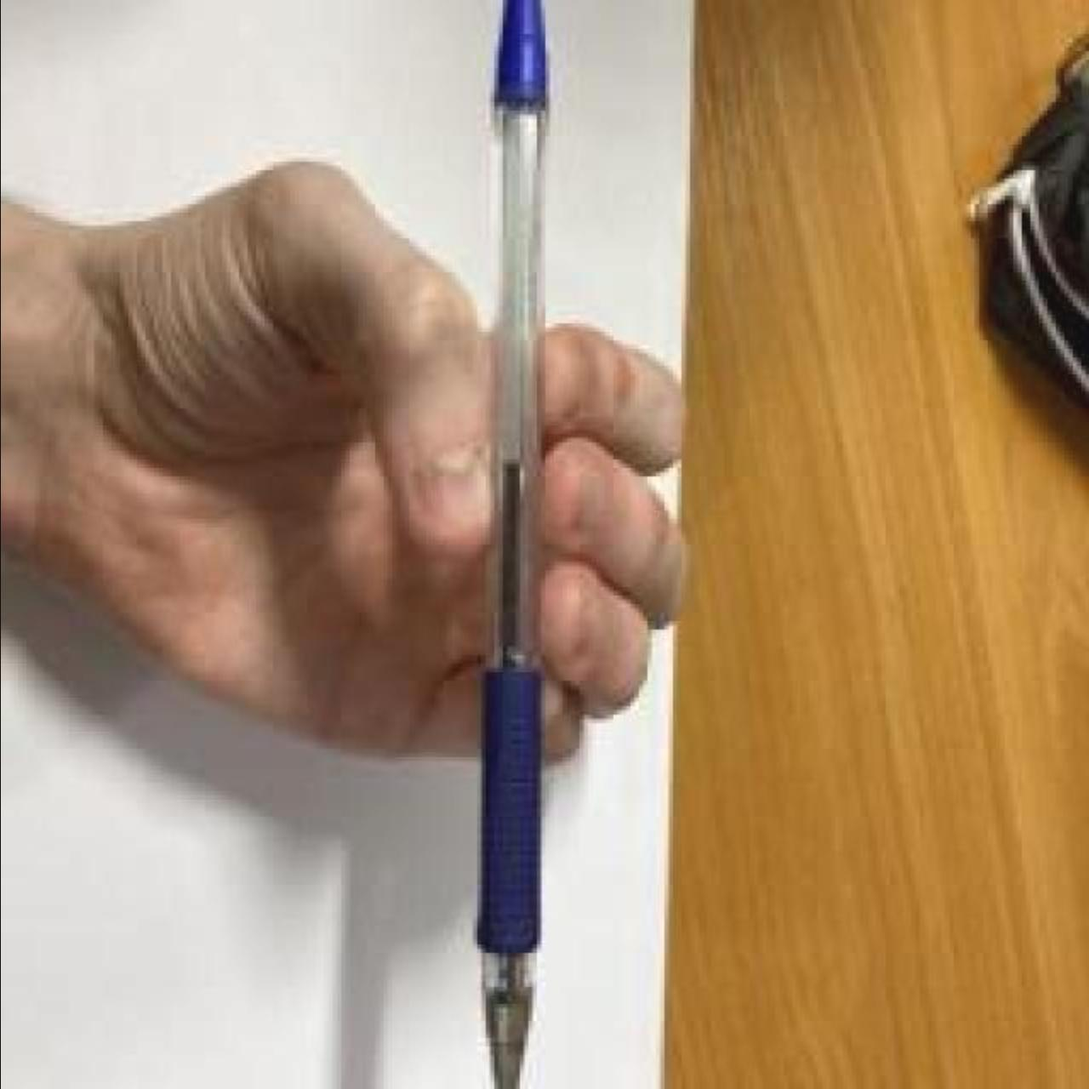pen: (490, 3, 550, 1089)
